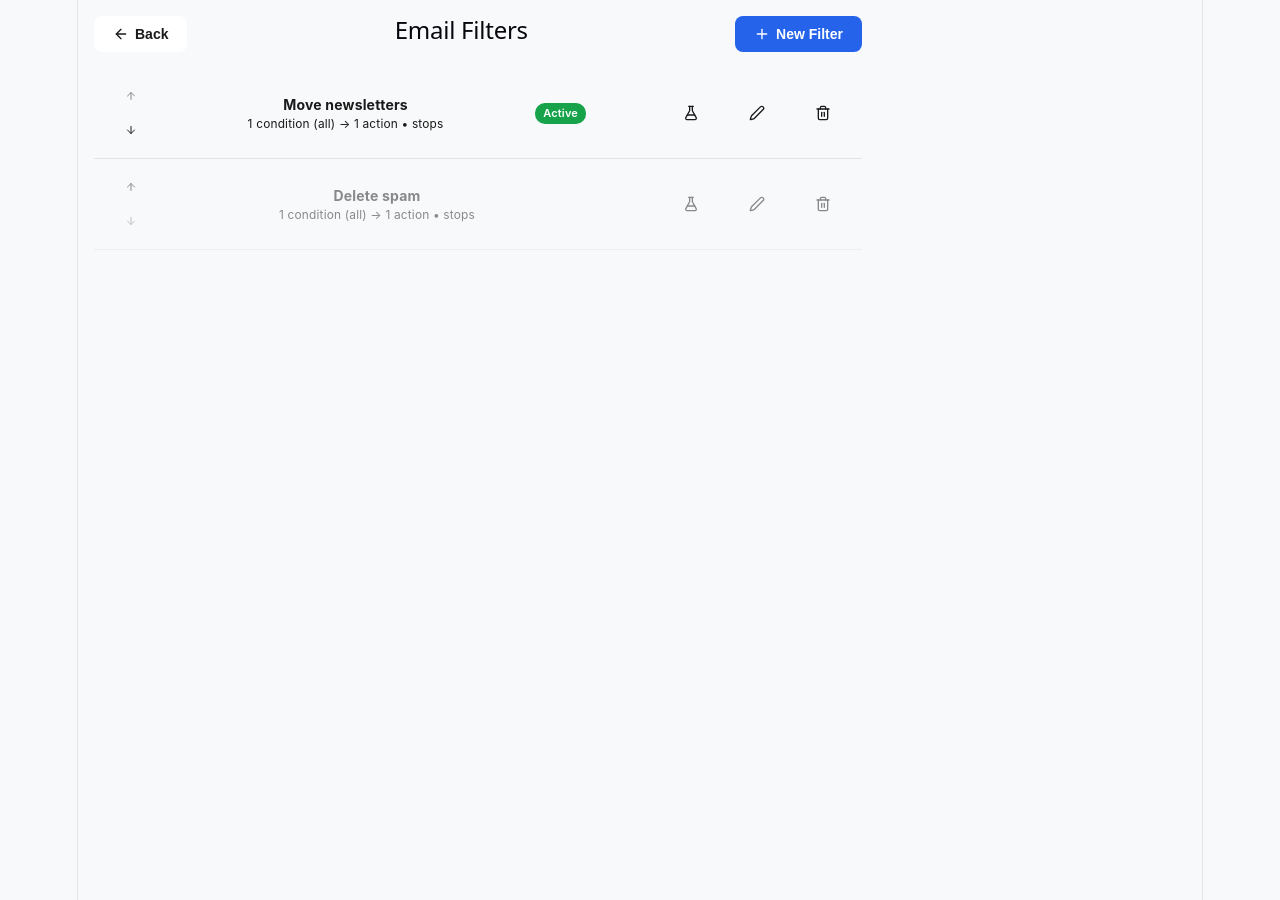
Test case: FilterManager › opens new filter form when clicking New Filter
Expected: the text "Move newsletters" is shown, [283, 96, 408, 113]
Click the button "New Filter": (799, 34) [735, 16, 862, 52]
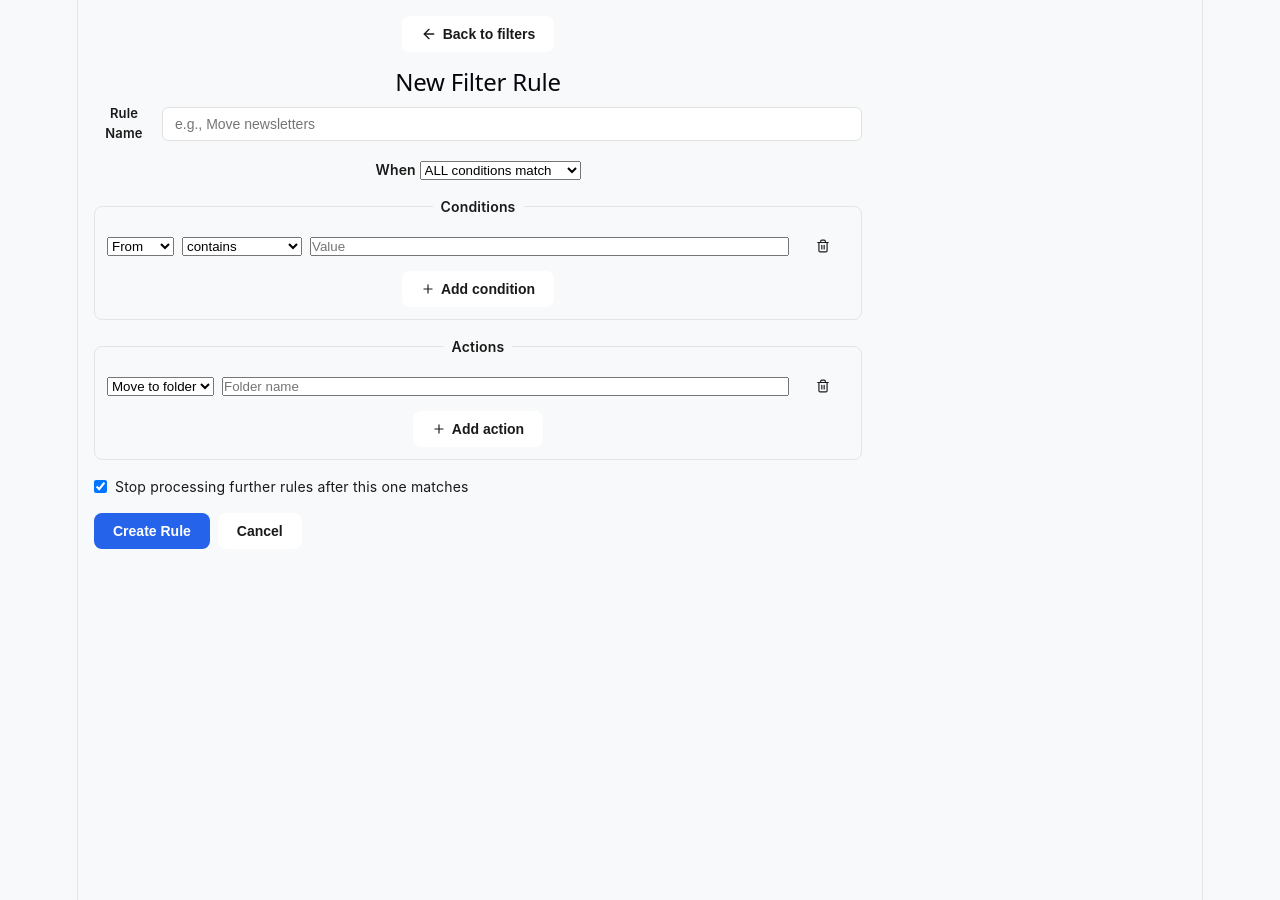
Expected: the heading "New Filter Rule" is shown, [395, 65, 561, 98]
Expected: the field with placeholder "e.g., Move newsletters" is shown, [162, 107, 862, 141]
